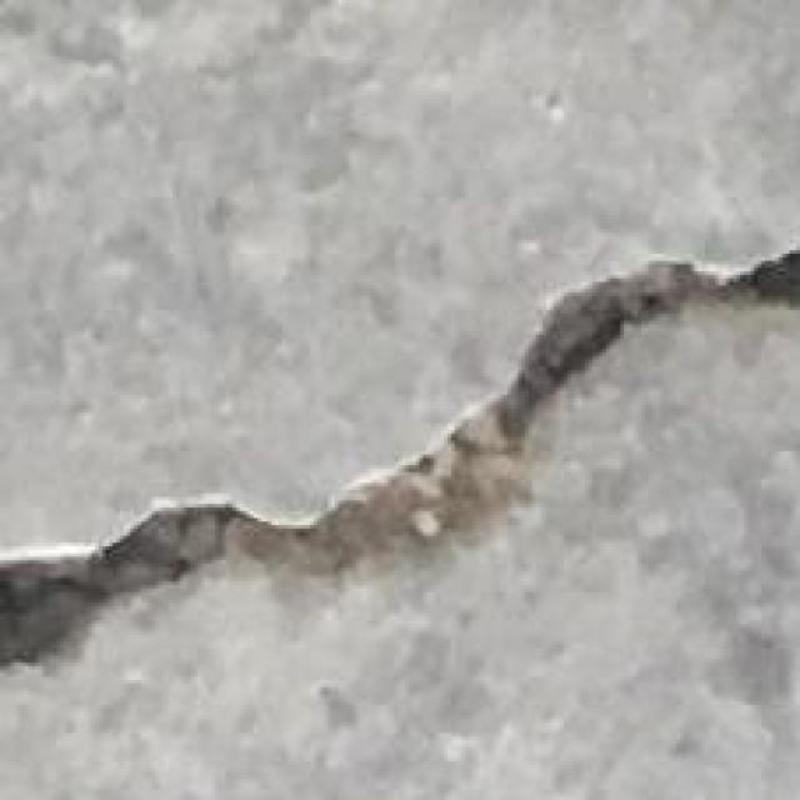pothole: (0, 248, 799, 665)
